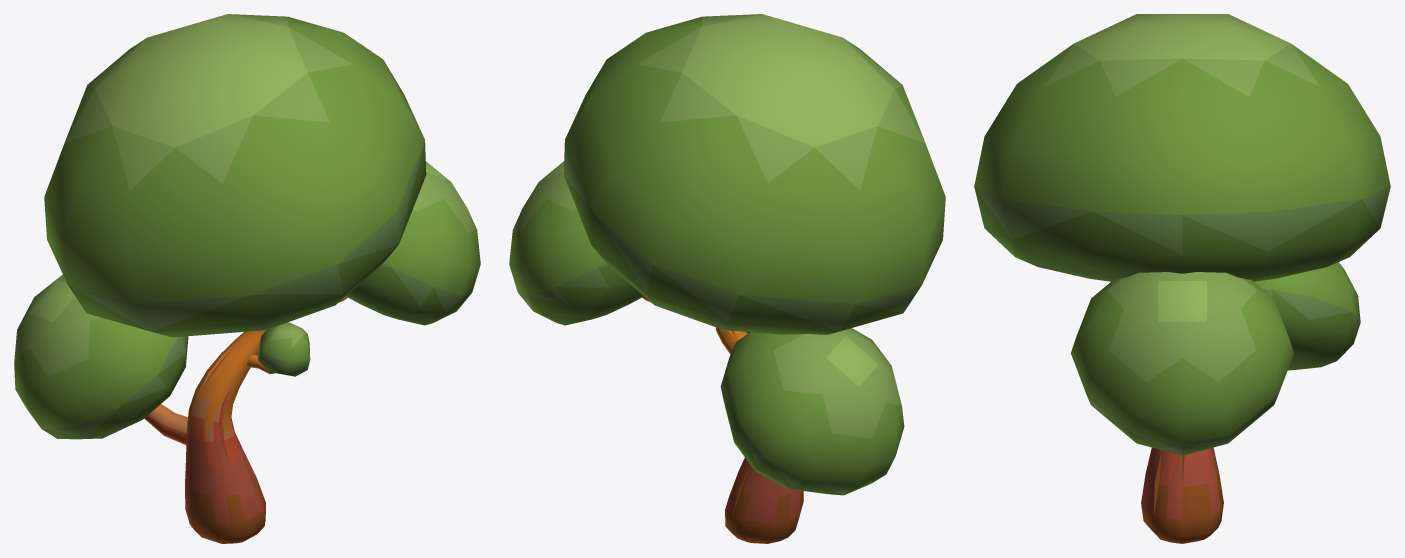
Rendered from itch_kaykit_forest_tree_1_c_color1.glb.
The picture shows the model from 3 angles, left to right: view 1: azimuth 30°, elevation 25°; view 2: azimuth 150°, elevation 25°; view 3: azimuth 270°, elevation 25°; orthographic projection. The views are drawn at different scales.
Parts seen in each view (by area): view 1: Tree_1_C_Color1; view 2: Tree_1_C_Color1; view 3: Tree_1_C_Color1.
Boxes of the visible parts, <box> form: Tree_1_C_Color1: <box>14,14,480,543</box>; Tree_1_C_Color1: <box>509,14,945,543</box>; Tree_1_C_Color1: <box>974,14,1390,543</box>.
Size of the model in its own units: 1.22 by 1.42 by 1.05.
